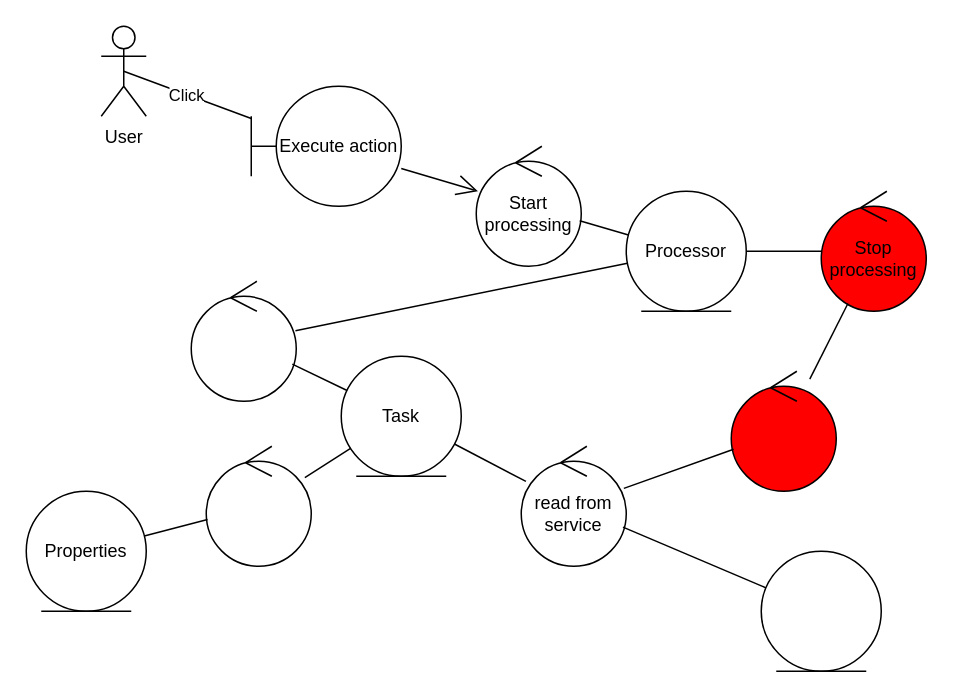
The diagram is 953 pixels wide and 698 high, and some of its shapes have lost their labels. Each missing label, with the centre of its shape:
"execute" goes at point (243, 340).
"get service url" goes at point (258, 505).
"Service unavailable" goes at point (783, 430).
"Storage" goes at point (820, 610).
